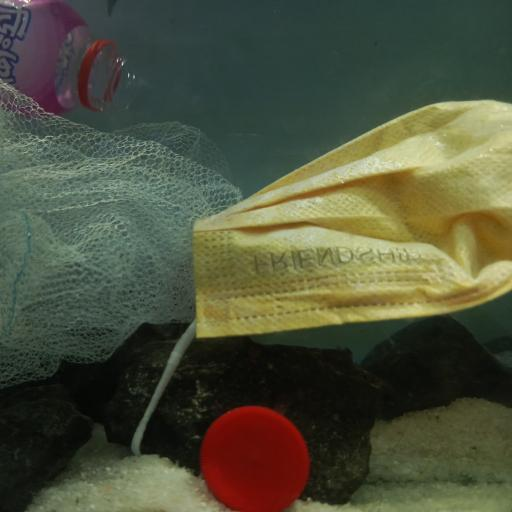bottle_cap: (198, 401, 307, 512)
mask: (139, 97, 512, 441)
net: (5, 80, 246, 398)
plastic_bottle: (3, 2, 133, 126)
